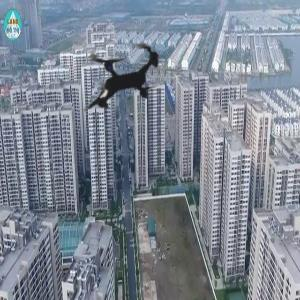drone: (54, 8, 192, 146)
